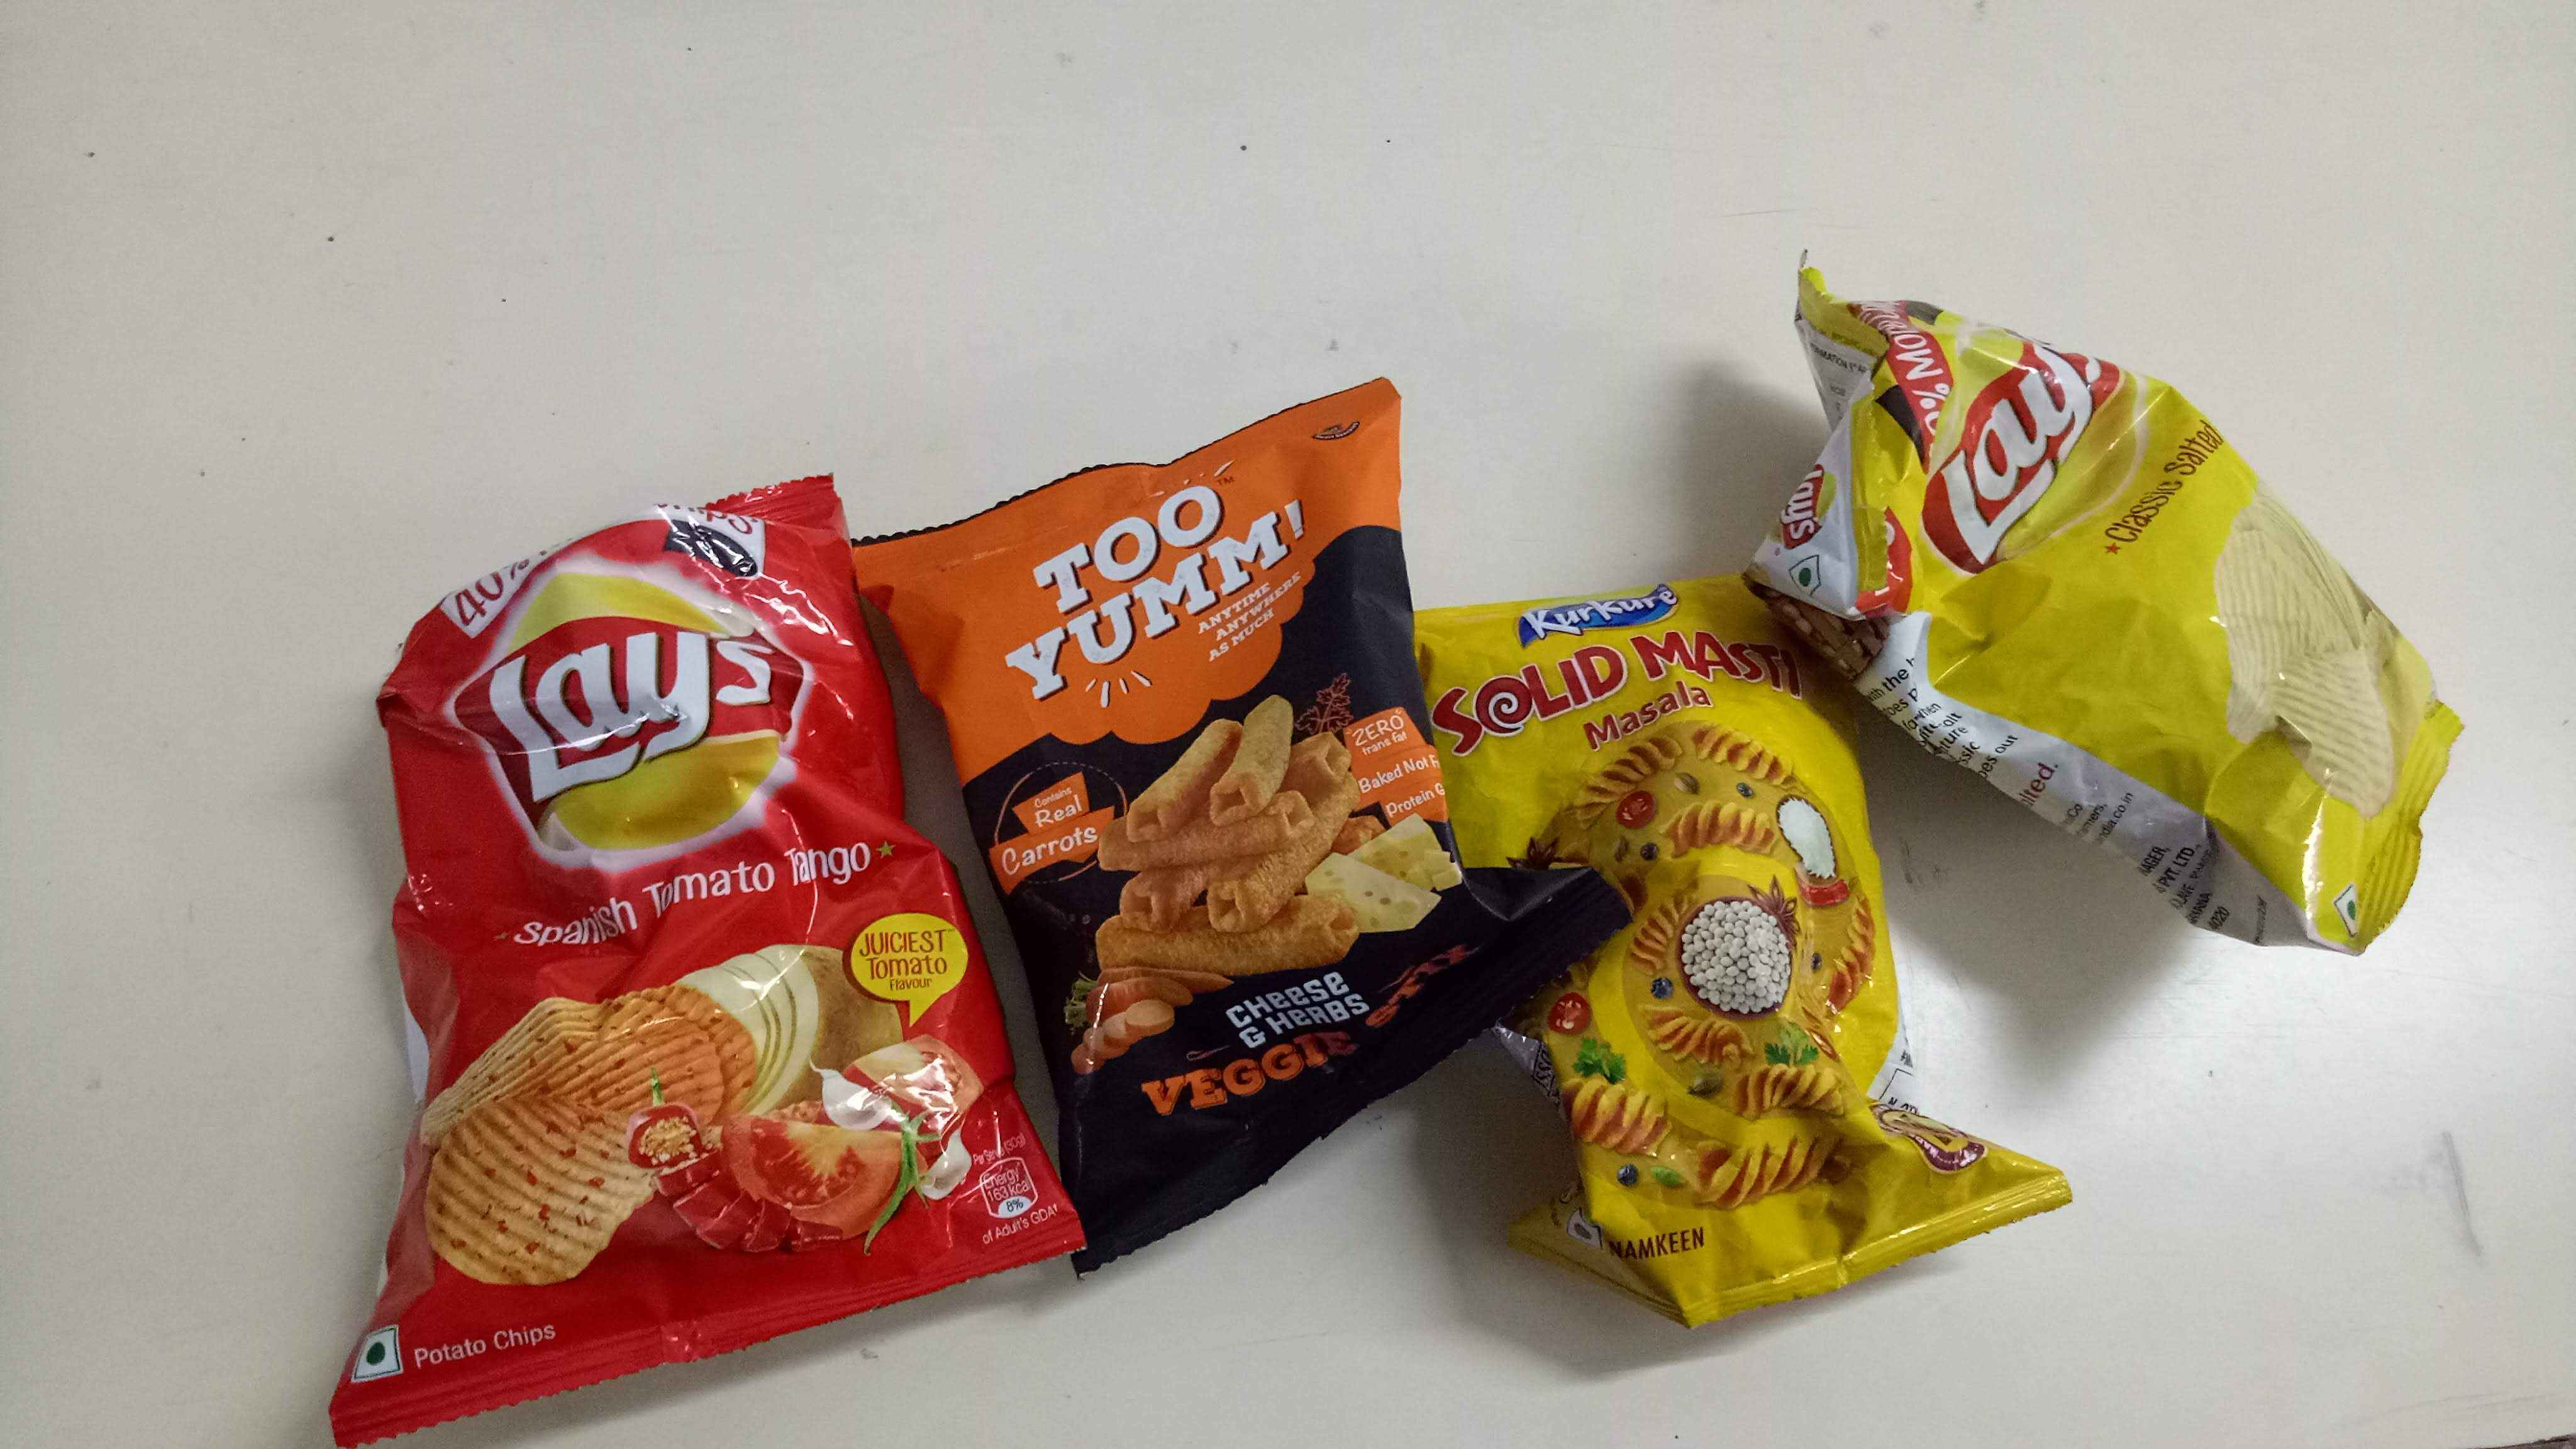Lays: (481, 564, 839, 890), (1907, 324, 2112, 594)
kurkure: (1509, 586, 1698, 655)
tooyumm: (1010, 483, 1318, 732)
